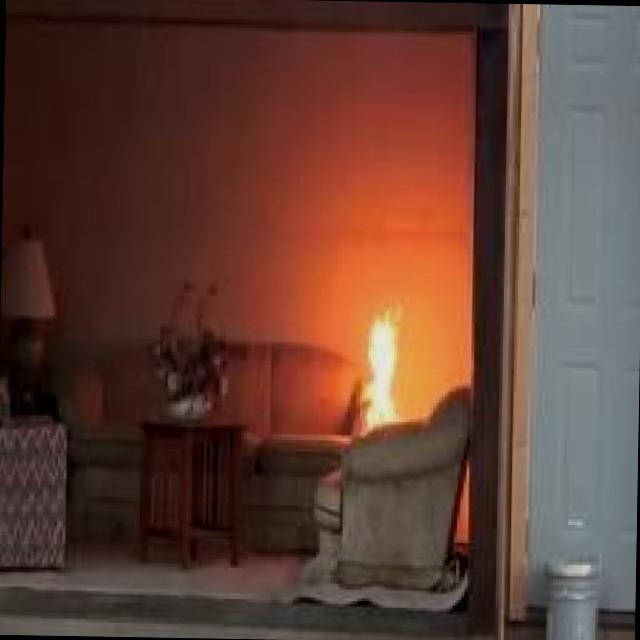fire: (352, 289, 422, 430)
